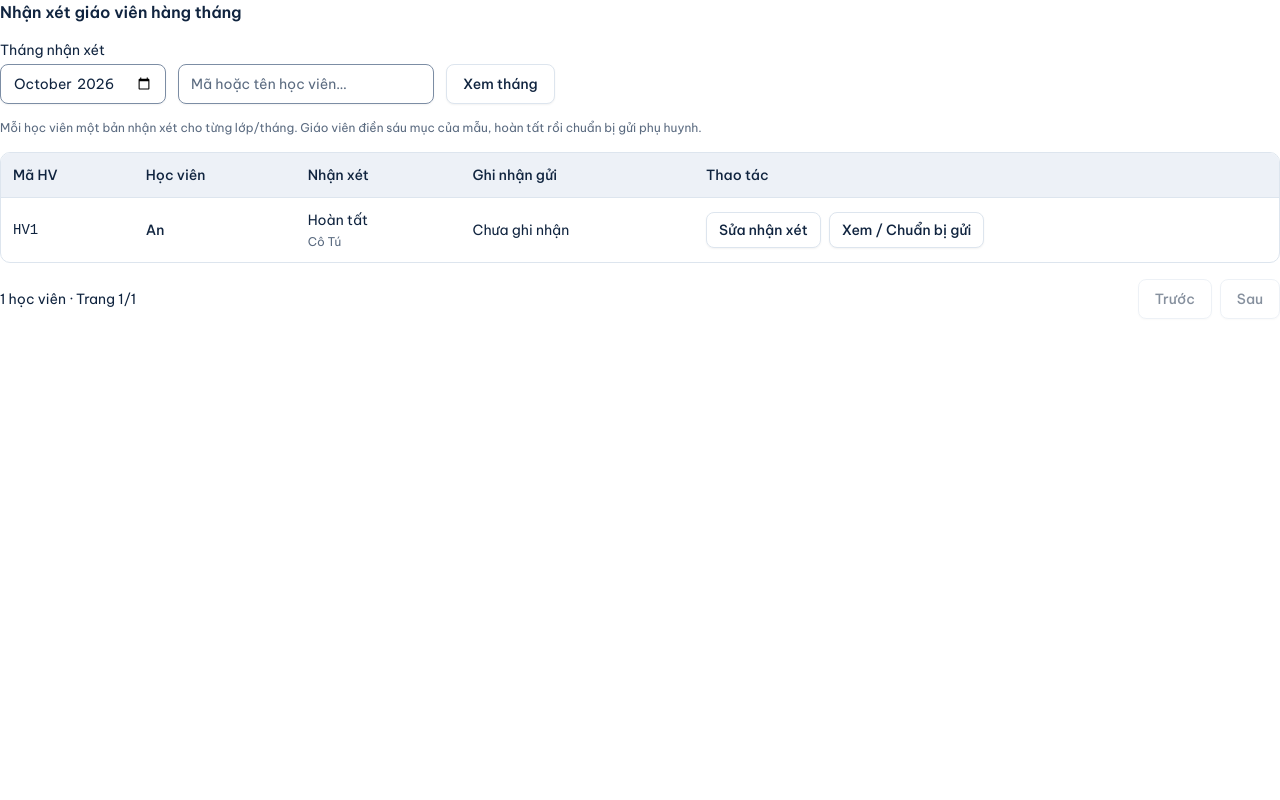
does not offer sharing for drafts
The image size is (1280, 800).
Step 1. Click the button "Xem / Chuẩn bị gửi" → (907, 230), box [829, 212, 984, 248]
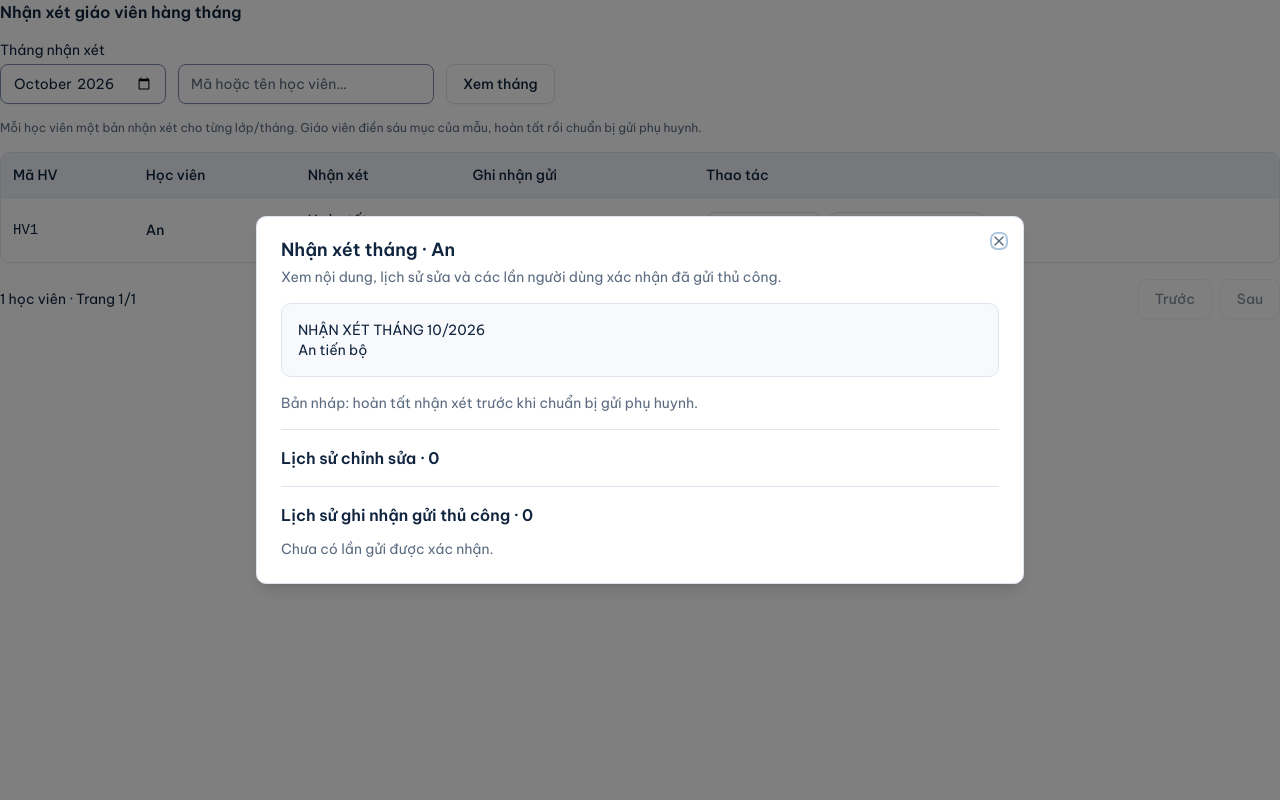
Expected: the text "Bản nháp: hoàn tất nhận xét trước khi chuẩn bị gửi phụ huynh." is shown, [281, 394, 698, 412]
